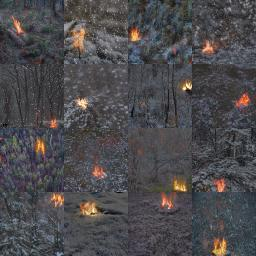Small fire: (210, 237, 232, 256), (158, 193, 176, 213), (72, 28, 86, 51), (78, 200, 99, 215), (235, 91, 251, 109), (48, 192, 63, 209), (12, 17, 24, 36), (171, 179, 190, 191), (74, 97, 90, 111), (214, 177, 228, 192), (35, 137, 46, 155), (201, 42, 217, 54), (90, 165, 104, 178), (47, 117, 60, 130), (181, 80, 194, 93), (131, 26, 141, 42)
